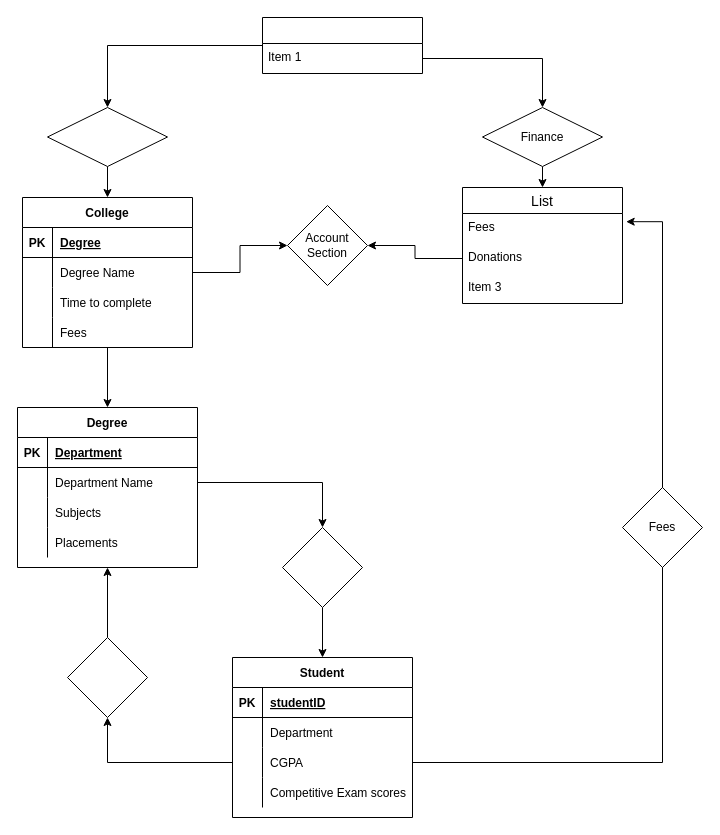
Some shapes in this 720 by 835 pixel diagram are drawn without their labels. The shapes that lost their labels are listed below. From the top down, each one's box as (x1, y1, x2, y2) in pixels, then its label:
(262, 16, 422, 74): Univsersity
(46, 106, 168, 166): Academics
(282, 526, 362, 608): teaches
(66, 636, 148, 718): Pays Fees
